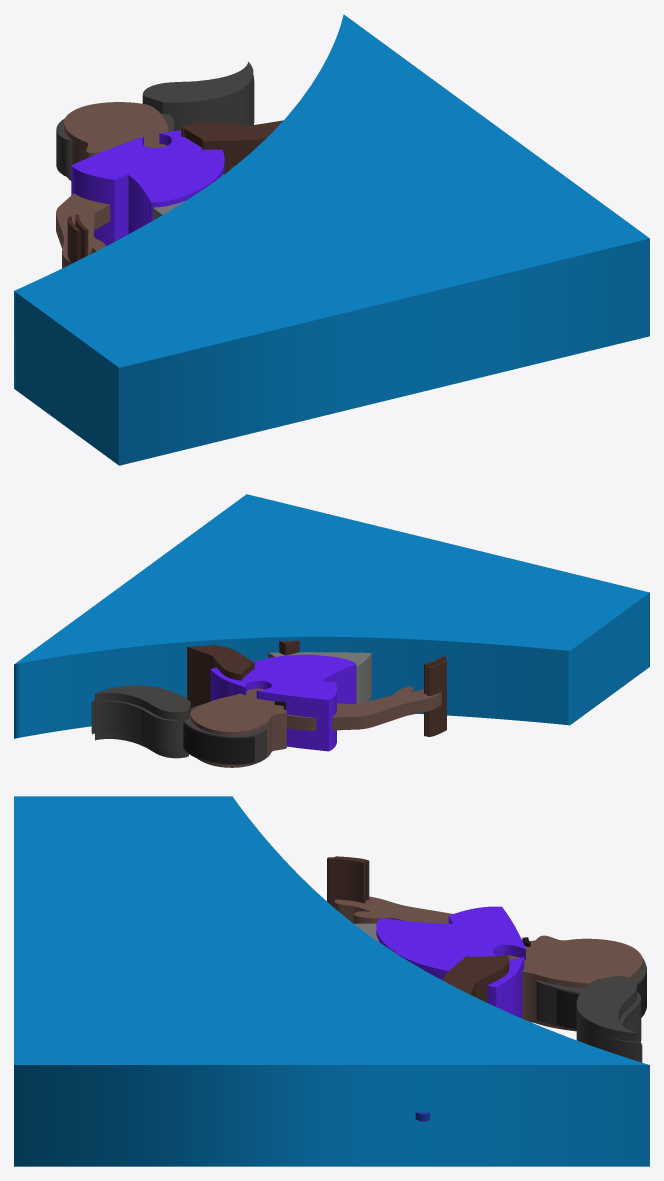
The model's file is emoji_u1f3c4_1f3ff_200d_2640.glb.
3 renders of one model, top to bottom at view 1: azimuth 30°, elevation 25°; view 2: azimuth 150°, elevation 25°; view 3: azimuth 270°, elevation 25°, orthographic. The views are drawn at different scales.
Parts seen in each view (by area): view 1: emoji_u1f3c4_1f3ff_200d_2640; view 2: emoji_u1f3c4_1f3ff_200d_2640; view 3: emoji_u1f3c4_1f3ff_200d_2640.
Boxes of the visible parts, box(x1,y1,x2,y2) form: emoji_u1f3c4_1f3ff_200d_2640: box(14, 14, 649, 465); emoji_u1f3c4_1f3ff_200d_2640: box(14, 494, 649, 767); emoji_u1f3c4_1f3ff_200d_2640: box(14, 796, 649, 1166).
Size of the model in its own units: 0.0332 by 0.0058 by 0.0329.
